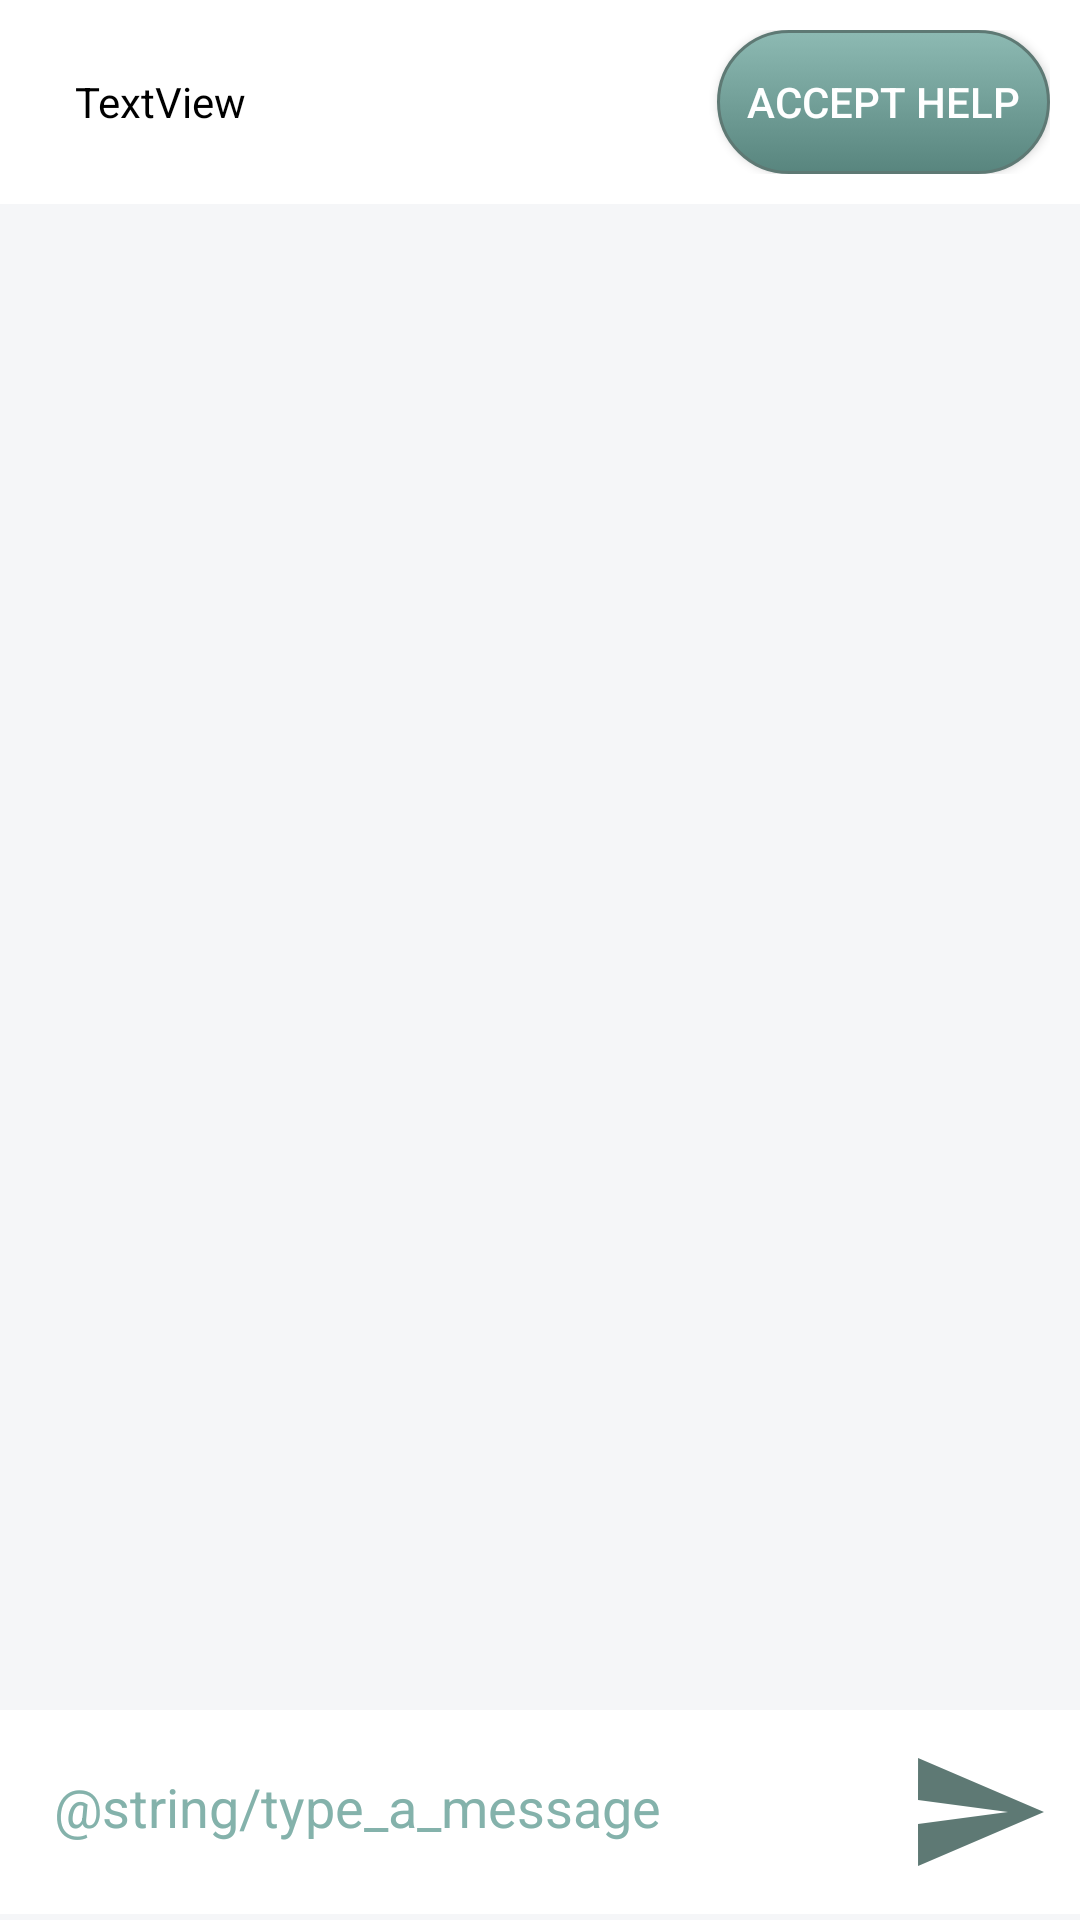

Icons on this 1080*1920 Android screen, each with its box as (x1, y1, x2, y2):
send: (918, 1758, 1044, 1866)
